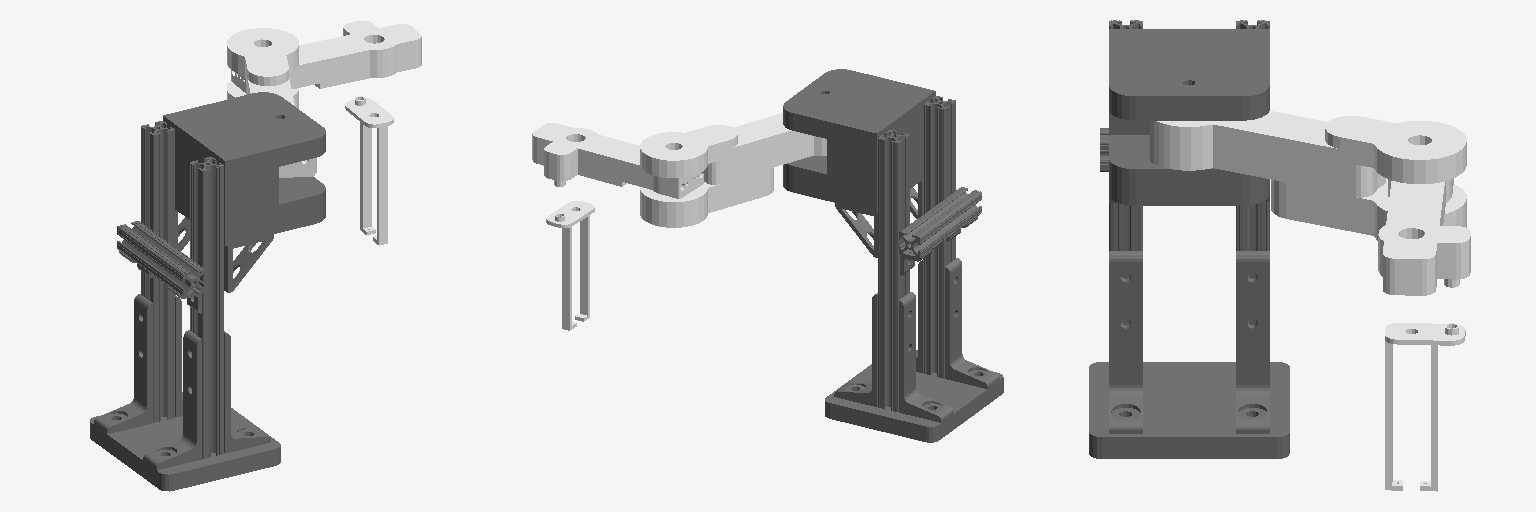
The robot description file, URDF, robot "TestRobo1":
<?xml version="1.0" encoding="utf-8"?>
<!-- This URDF was automatically created by SolidWorks to URDF Exporter! Originally created by [author] ([email redacted]) 
     Commit Version: 1.5.1-0-g916b5db  Build Version: 1.5.7152.31018
     For more information, please see http://wiki.ros.org/sw_urdf_exporter -->
<robot
  name="TestRobo1">
  <link
    name="base_link">
    <inertial>
      <origin
        xyz="0.028666 -0.00015364 0.14106"
        rpy="0 0 0" />
      <mass
        value="2.565" />
      <inertia
        ixx="0.005891"
        ixy="5.4055E-11"
        ixz="6.4323E-05"
        iyy="0.0053816"
        iyz="-3.5928E-12"
        izz="0.0061554" />
    </inertial>
    <visual>
      <origin
        xyz="0 0 0"
        rpy="0 0 0" />
      <geometry>
        <mesh
          filename="package://TestRobo1/meshes/base_link.STL" />
      </geometry>
      <material
        name="">
        <color
          rgba="0.50196 0.50196 0.50196 1" />
      </material>
    </visual>
    <collision>
      <origin
        xyz="0 0 0"
        rpy="0 0 0" />
      <geometry>
        <mesh
          filename="package://TestRobo1/meshes/base_link.STL" />
      </geometry>
    </collision>
  </link>
  <link
    name="Link1">
    <inertial>
      <origin
        xyz="0.049343 0.10645 0.038471"
        rpy="0 0 0" />
      <mass
        value="0.56851" />
      <inertia
        ixx="0.0019108"
        ixy="-0.0007026"
        ixz="5.1977E-05"
        iyy="0.00072073"
        iyz="0.00011213"
        izz="0.0021082" />
    </inertial>
    <visual>
      <origin
        xyz="0 0 0"
        rpy="0 0 0" />
      <geometry>
        <mesh
          filename="package://TestRobo1/meshes/Link1.STL" />
      </geometry>
      <material
        name="">
        <color
          rgba="1 1 1 1" />
      </material>
    </visual>
    <collision>
      <origin
        xyz="0 0 0"
        rpy="0 0 0" />
      <geometry>
        <mesh
          filename="package://TestRobo1/meshes/Link1.STL" />
      </geometry>
    </collision>
  </link>
  <joint
    name="Joint1"
    type="revolute">
    <origin
      xyz="0.10571 -0.0001601 0.22388"
      rpy="0 0 0" />
    <parent
      link="base_link" />
    <child
      link="Link1" />
    <axis
      xyz="0 0 1" />
    <limit
      lower="-2"
      upper="2"
      effort="0"
      velocity="1" />
  </joint>
  <link
    name="Link2">
    <inertial>
      <origin
        xyz="0.082985 -0.0014773 0.035771"
        rpy="0 0 0" />
      <mass
        value="0.21287" />
      <inertia
        ixx="6.4777E-05"
        ixy="-4.962E-07"
        ixz="8.5116E-06"
        iyy="0.00039132"
        iyz="3.4308E-07"
        izz="0.00042599" />
    </inertial>
    <visual>
      <origin
        xyz="0 0 0"
        rpy="0 0 0" />
      <geometry>
        <mesh
          filename="package://TestRobo1/meshes/Link2.STL" />
      </geometry>
      <material
        name="">
        <color
          rgba="1 1 1 1" />
      </material>
    </visual>
    <collision>
      <origin
        xyz="0 0 0"
        rpy="0 0 0" />
      <geometry>
        <mesh
          filename="package://TestRobo1/meshes/Link2.STL" />
      </geometry>
    </collision>
  </link>
  <joint
    name="Joint2"
    type="revolute">
    <origin
      xyz="0.079905 0.17238 0.005"
      rpy="0 0 0" />
    <parent
      link="Link1" />
    <child
      link="Link2" />
    <axis
      xyz="0 0 1" />
    <limit
      lower="-2"
      upper="2"
      effort="0"
      velocity="1" />
  </joint>
  <link
    name="Tool">
    <inertial>
      <origin
        xyz="0.015 0.036479 0.046764"
        rpy="0 0 0" />
      <mass
        value="0.020059" />
      <inertia
        ixx="4.5223E-05"
        ixy="3.8116E-21"
        ixz="8.0397E-21"
        iyy="3.9642E-05"
        iyz="-3.1927E-06"
        izz="6.7896E-06" />
    </inertial>
    <visual>
      <origin
        xyz="0 0 0"
        rpy="0 0 0" />
      <geometry>
        <mesh
          filename="package://TestRobo1/meshes/Tool.STL" />
      </geometry>
      <material
        name="">
        <color
          rgba="1 1 1 1" />
      </material>
    </visual>
    <collision>
      <origin
        xyz="0 0 0"
        rpy="0 0 0" />
      <geometry>
        <mesh
          filename="package://TestRobo1/meshes/Tool.STL" />
      </geometry>
    </collision>
  </link>
  <joint
    name="Tool1"
    type="fixed">
    <origin
      xyz="0.10693 0.034498 -0.03057"
      rpy="3.1416 0 -0.051906" />
    <parent
      link="Link2" />
    <child
      link="Tool" />
    <axis
      xyz="0 0 0" />
  </joint>
</robot>

--- What the picture shows (computed from the rendered views, not written in the file) ---
Views: 3 orthographic renders of the robot side by side, from view 1: azimuth 30°, elevation 25°; view 2: azimuth 150°, elevation 25°; view 3: azimuth 270°, elevation 25°.
Robot: TestRobo1 — 4 links, 3 joints (2 revolute, 1 fixed); root link base_link; default pose: all joints at 0.
Visible links, largest first — view 1: base_link, Link2, Link1, Tool; view 2: base_link, Link1, Link2, Tool; view 3: base_link, Link1, Link2, Tool.
Link boxes in pixels (<box>): base_link: <box>90,92,325,491</box>; Link2: <box>231,21,421,92</box>; Link1: <box>227,28,316,177</box>; Tool: <box>345,96,393,245</box>; base_link: <box>783,69,1003,442</box>; Link1: <box>640,113,826,227</box>; Link2: <box>532,123,703,198</box>; Tool: <box>546,201,594,330</box>; base_link: <box>1089,20,1289,458</box>; Link1: <box>1150,111,1466,240</box>; Link2: <box>1378,178,1470,295</box>; Tool: <box>1385,323,1465,491</box>.
Size in the robot's own frame: 0.4174 by 0.2852 by 0.328 metres.
4 mesh visuals loaded from 4 distinct referenced files (4 binary STL).